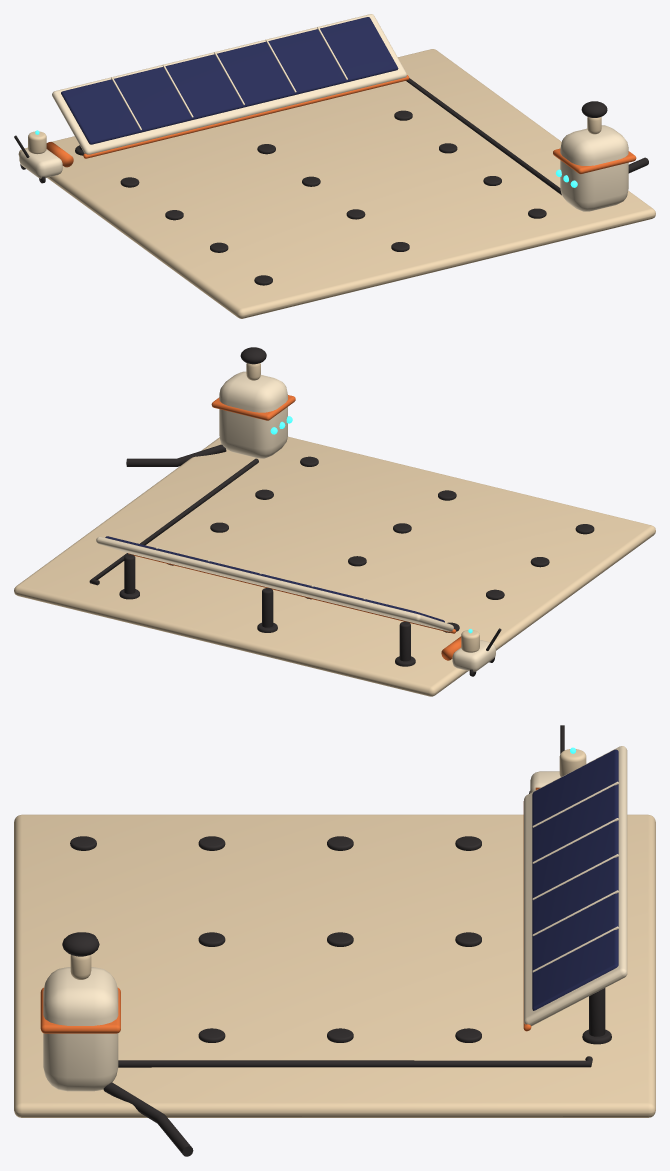
The model's file is solar-1.glb.
3 renders of one model, top to bottom at view 1: azimuth 30°, elevation 25°; view 2: azimuth 150°, elevation 25°; view 3: azimuth 270°, elevation 25°, orthographic. The views are drawn at different scales.
Visible parts, largest first — view 1: Cube, Cube.002, Cube.001, Cylinder, Cube.008; view 2: Cube, Cube.001, Cylinder, Cube.008, Cube.002; view 3: Cube, Cube.002, Cube.001, Cylinder, Cube.008.
Part boxes in pixels (<box>): Cube: <box>18,49,655,318</box>; Cube.002: <box>61,17,398,144</box>; Cube.001: <box>19,14,628,211</box>; Cylinder: <box>14,78,648,285</box>; Cube.008: <box>46,75,636,174</box>; Cube: <box>14,363,655,696</box>; Cube.001: <box>96,371,495,671</box>; Cylinder: <box>89,347,594,676</box>; Cube.008: <box>128,395,461,660</box>; Cube.002: <box>105,536,444,622</box>; Cube: <box>14,749,655,1117</box>; Cube.002: <box>532,749,618,1010</box>; Cube.001: <box>43,746,627,1091</box>; Cylinder: <box>62,725,611,1156</box>; Cube.008: <box>40,787,540,1033</box>.
Size of the model in its own units: 3.13 by 0.6585 by 2.4.
